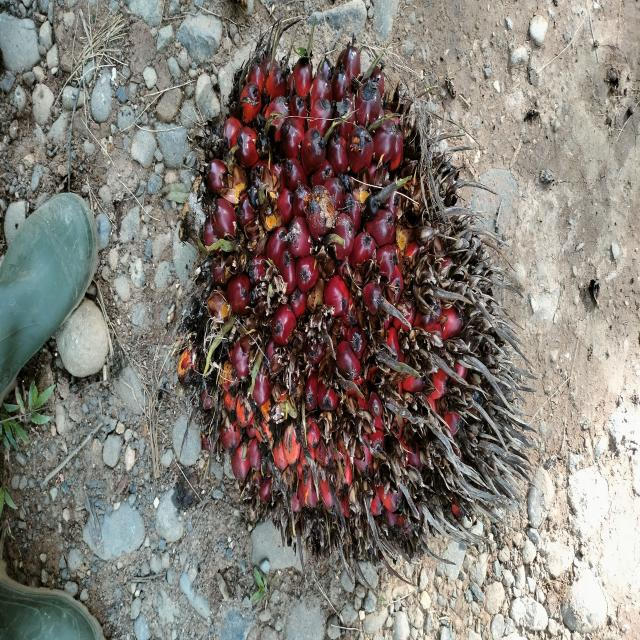fraksi 3: (189, 38, 502, 589)
